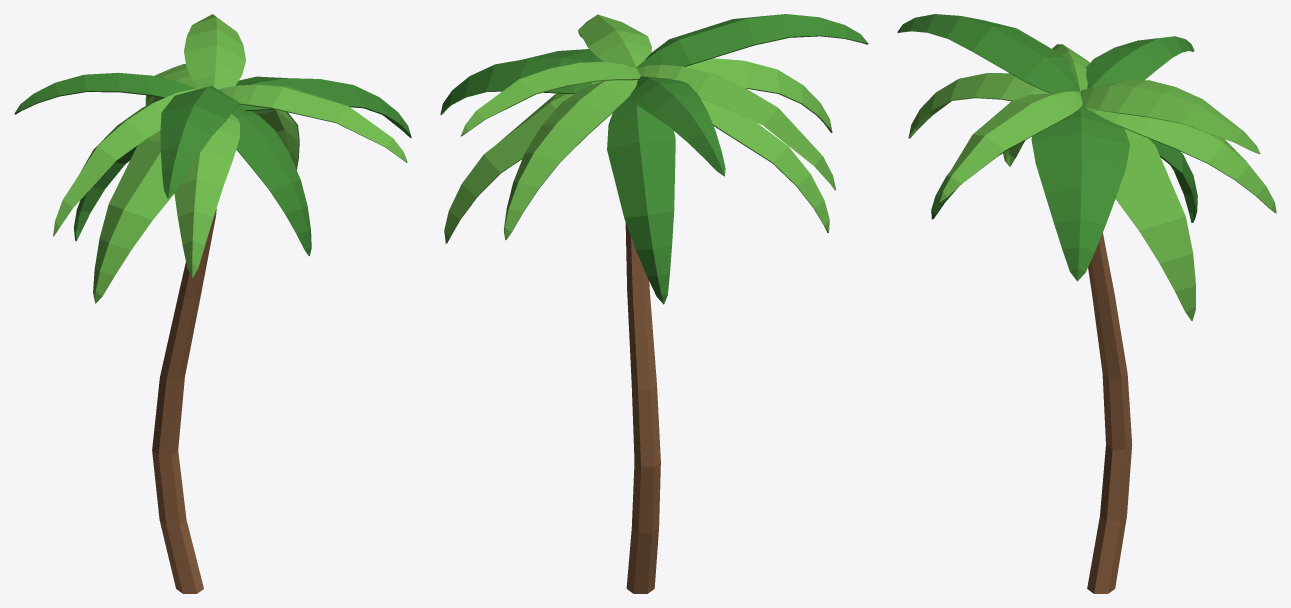
The model's file is nature-palmtree-3.glb.
The picture shows the model from 3 angles, left to right: view 1: azimuth 30°, elevation 25°; view 2: azimuth 150°, elevation 25°; view 3: azimuth 270°, elevation 25°; orthographic projection.
Parts seen in each view (by area): view 1: PalmTree_3; view 2: PalmTree_3; view 3: PalmTree_3.
Part boxes in pixels (x1,y1,x2,y2): PalmTree_3: [14, 14, 411, 593]; PalmTree_3: [440, 14, 868, 593]; PalmTree_3: [897, 14, 1276, 593].
Size of the model in its own units: 288 by 393 by 251.
